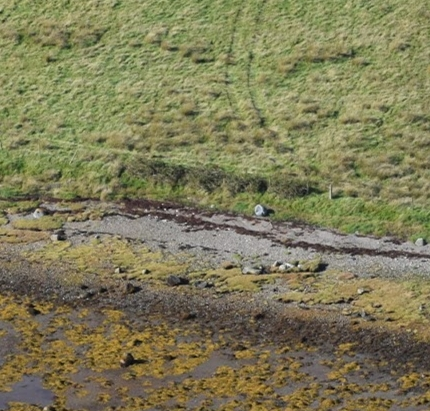white_in_green: (234, 188, 288, 230)
